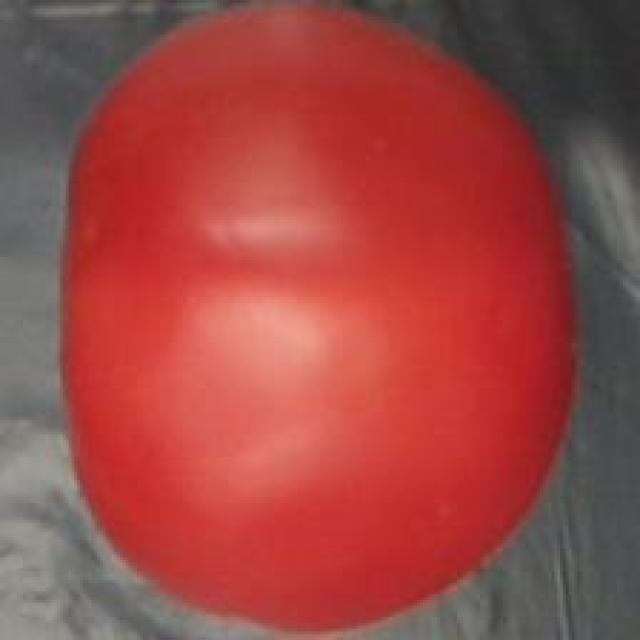ripe tomato: (51, 0, 594, 631)
